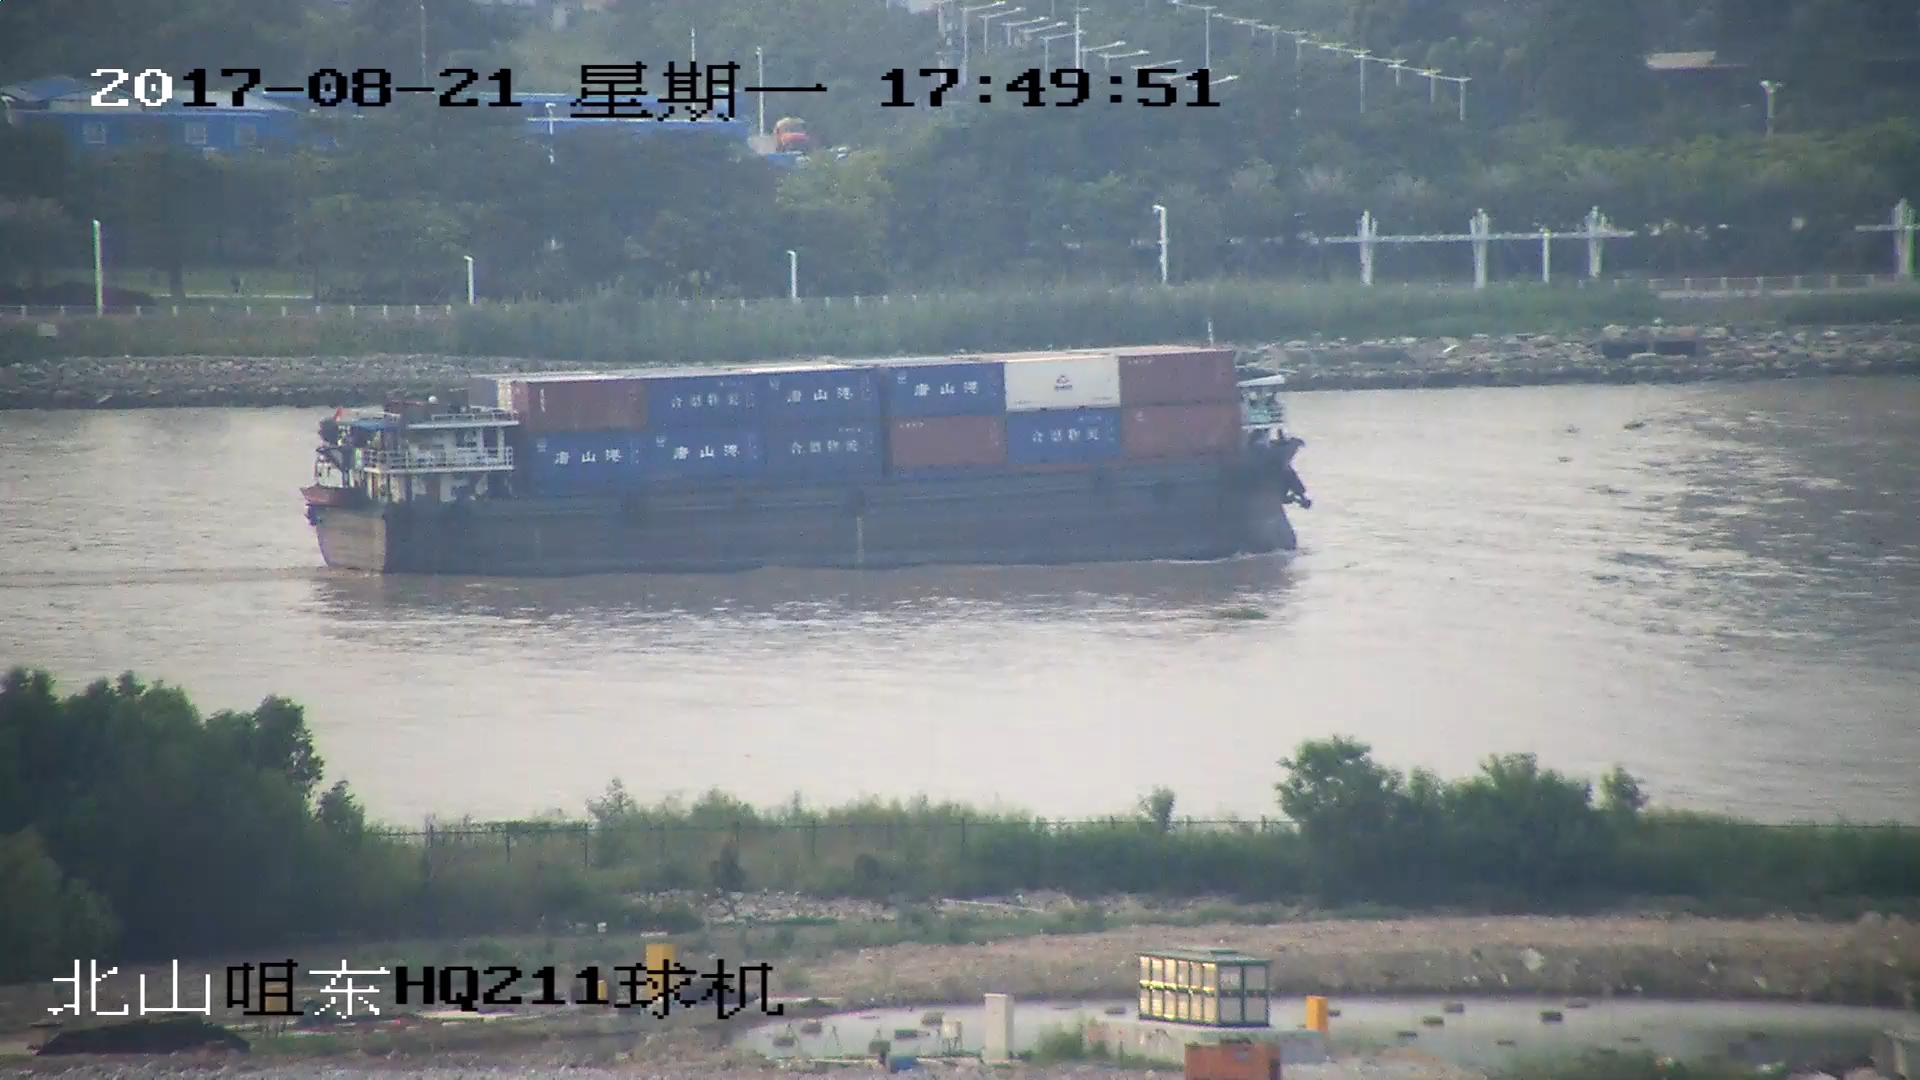container ship: (301, 344, 1307, 580)
